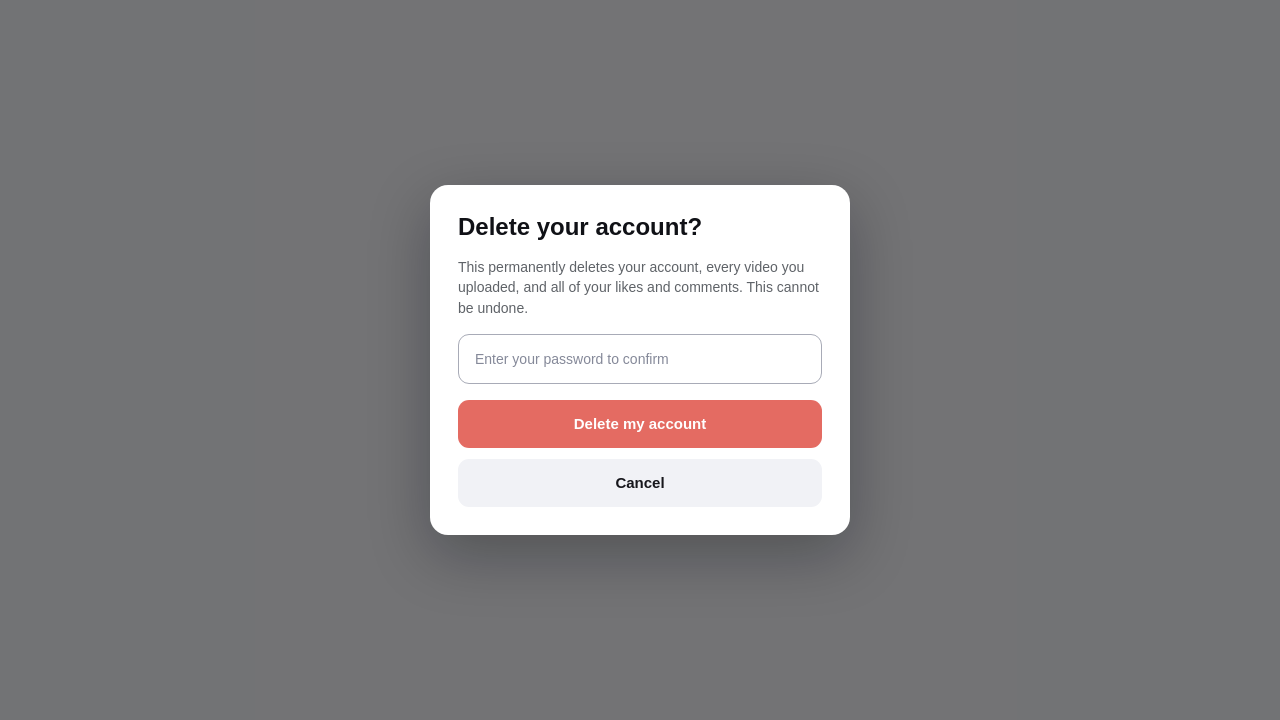
Test case: DeleteAccountModal › shows the error and keeps the user signed in when the password is wrong
Type "wrong" into the password field with placeholder "Enter your password to confirm".
click(640, 359); type("wrong")  # box x1=458 y1=334 x2=822 y2=384
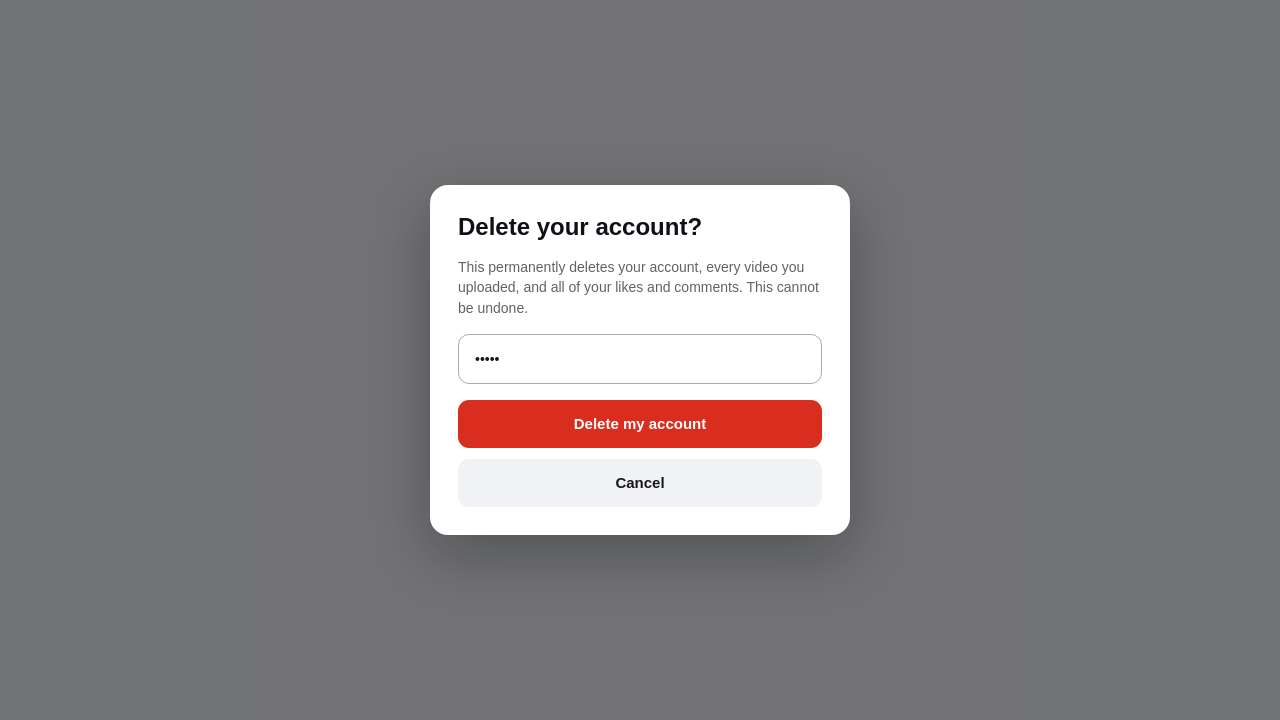
Click the button "Delete my account".
click(640, 424)  # box x1=458 y1=400 x2=822 y2=448
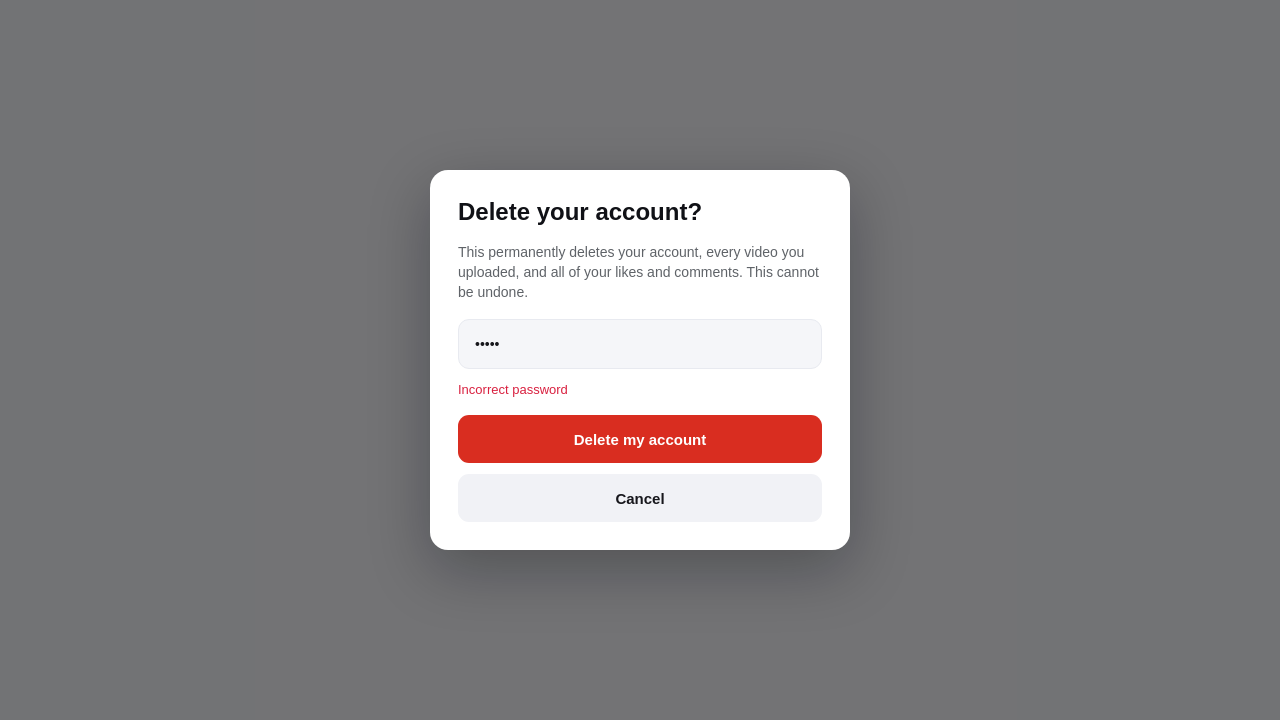
Check: the button "Delete my account" is enabled, box x1=458 y1=415 x2=822 y2=463
Check: the text "Incorrect password" is shown, box x1=458 y1=382 x2=568 y2=397
